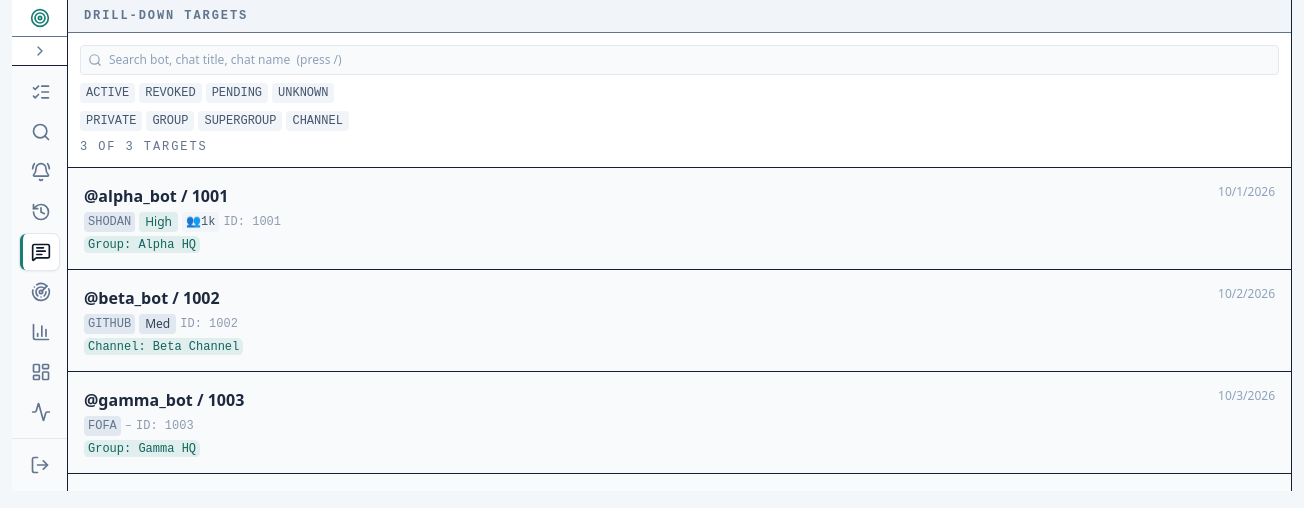
Scenario: Sidebar › filters by bot username, chat name and chat title case-insensitively
Check: the text "3 of 3 targets" is shown, box 80,140 -> 208,154
Step 1. Type "ALPHA_BOT" into the search field named "Search targets" → [680, 60], box 80,45 -> 1279,75
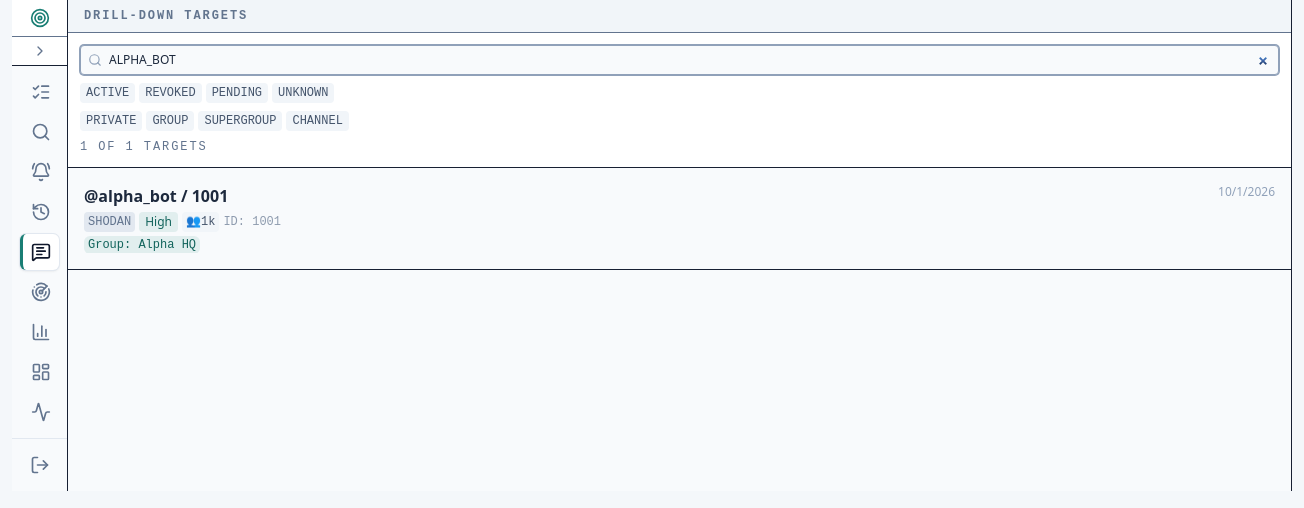
Check: the text "@alpha_bot / 1001" is shown, box 84,184 -> 228,208
Check: the text "1 of 1 targets" is shown, box 80,140 -> 208,154
Check: the button "@beta_bot / 1002" is gone
Step 2. Replace the text in the search field named "Search targets" with "beta channel" → [680, 60], box 80,45 -> 1279,75
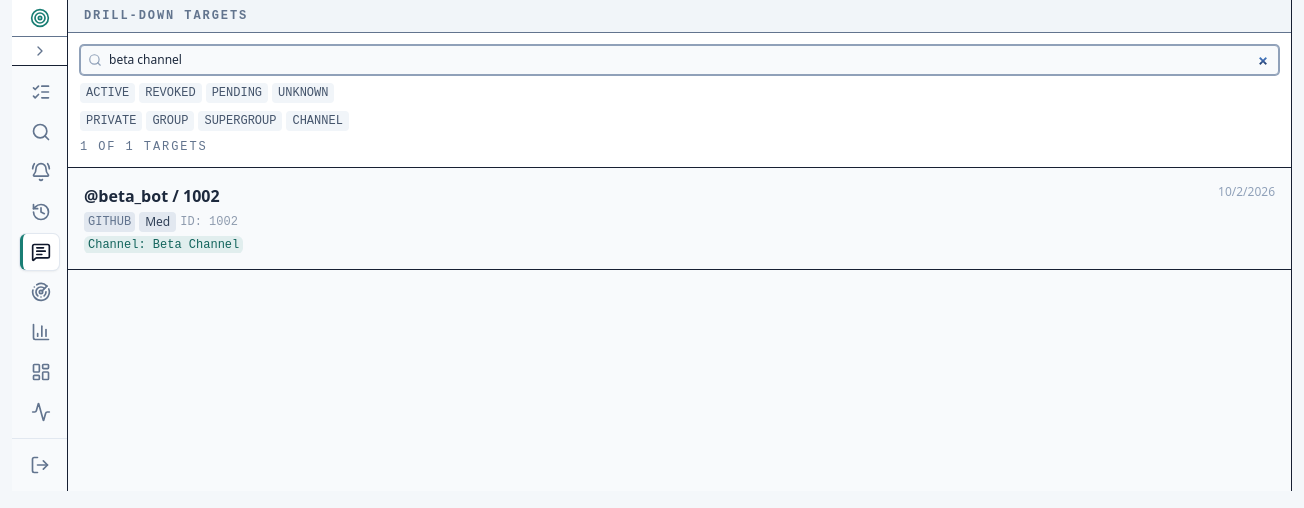
Check: the text "1 of 1 targets" is shown, box 80,140 -> 208,154
Check: the text "@beta_bot / 1002" is shown, box 84,184 -> 220,208
Check: the button "@alpha_bot / 1001" is gone
Step 3. Replace the text in the search field named "Search targets" with "Gamma Group" → [680, 60], box 80,45 -> 1279,75
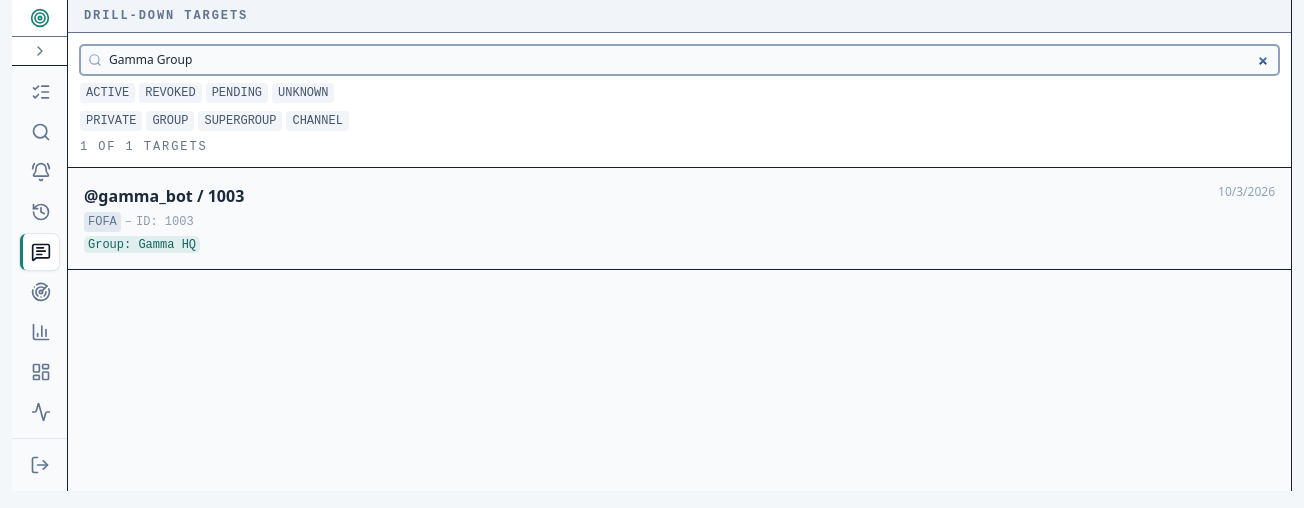
Check: the text "1 of 1 targets" is shown, box 80,140 -> 208,154
Check: the text "@gamma_bot / 1003" is shown, box 84,184 -> 244,208
